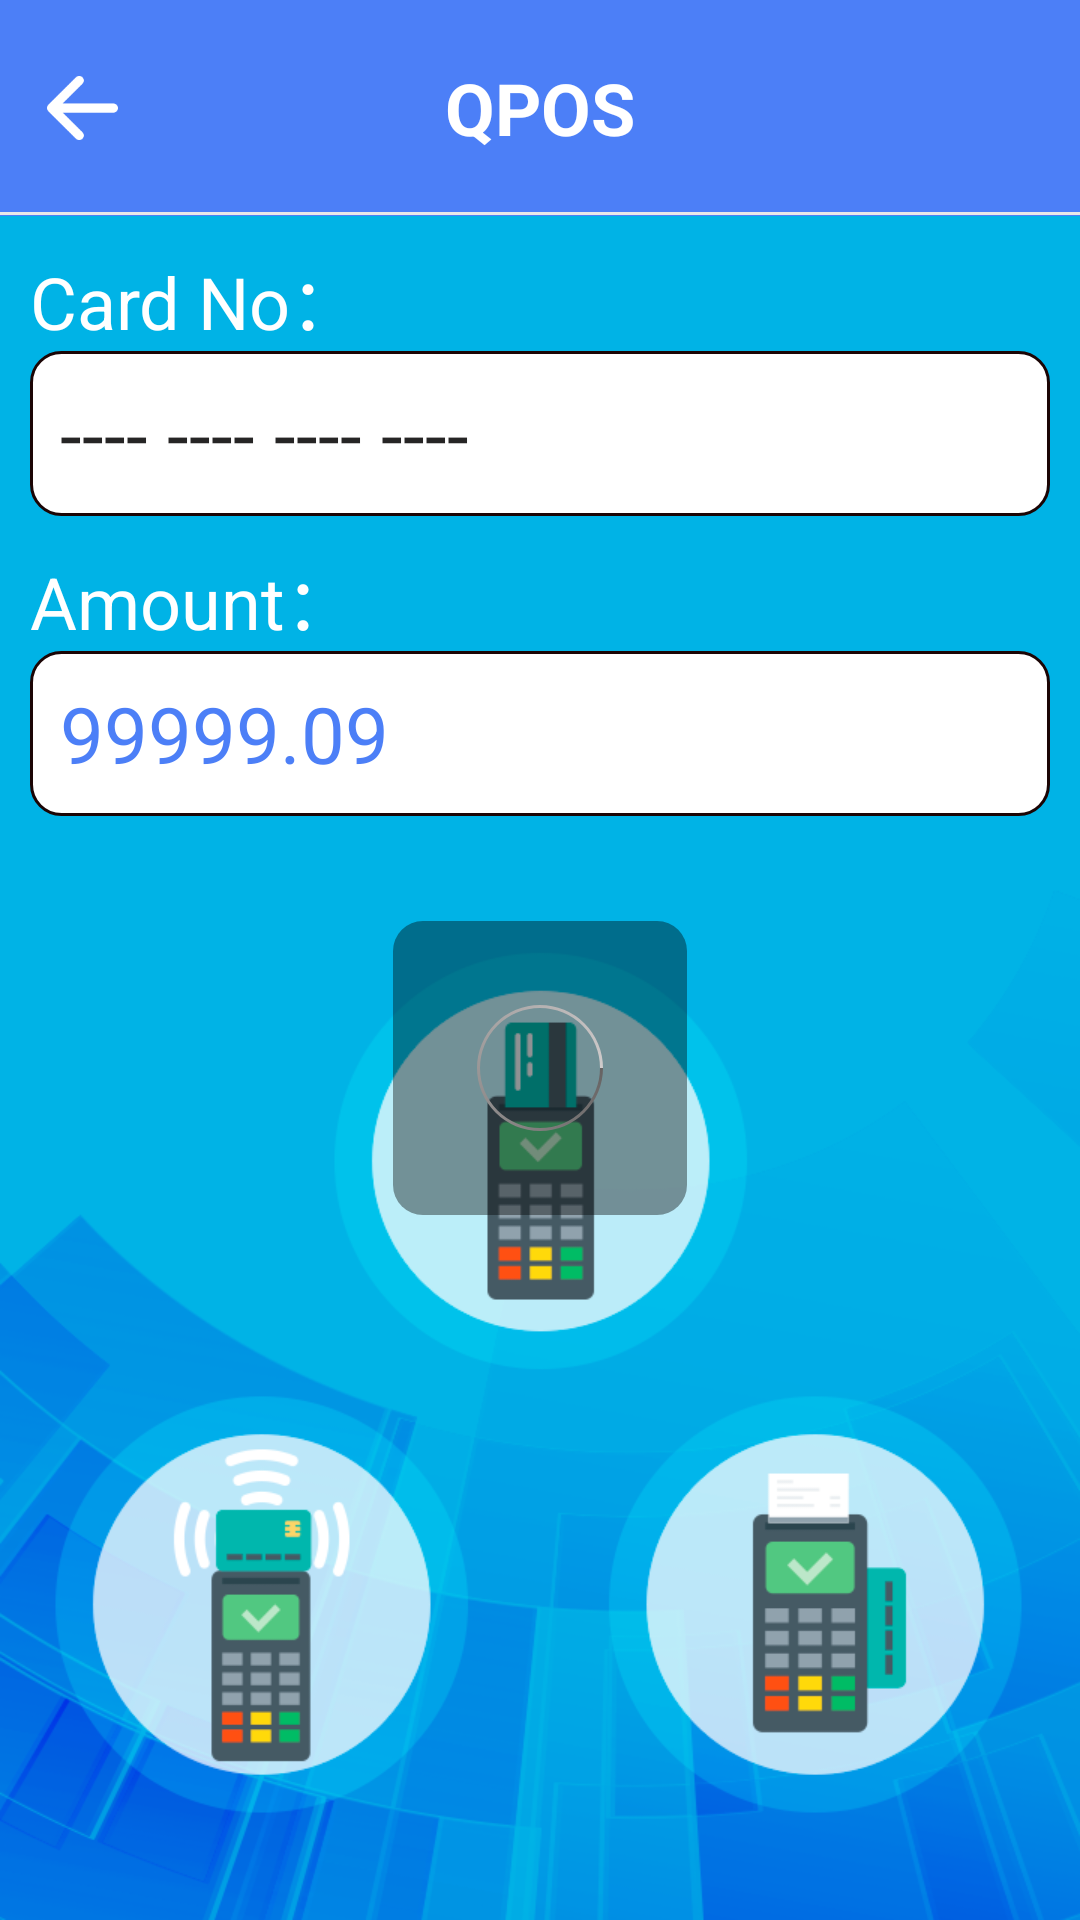

Icons on this 1080px x 1920px Android screen, each with its box as (x1, y1, x2, y2):
back: (47, 76, 118, 140)
